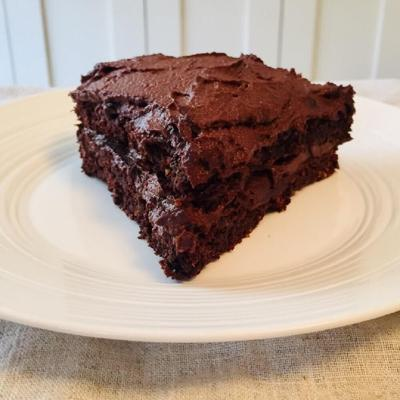cake: (65, 46, 357, 289)
